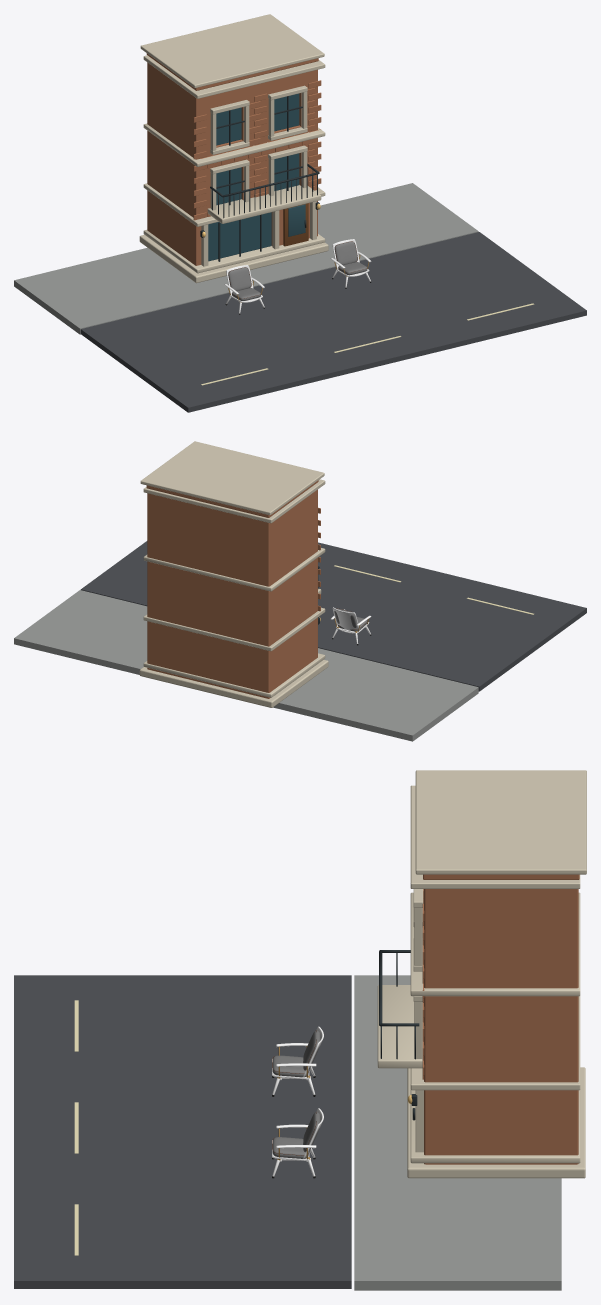
The model's file is garage.glb.
The picture shows the model from 3 angles, top to bottom: view 1: azimuth 30°, elevation 25°; view 2: azimuth 150°, elevation 25°; view 3: azimuth 270°, elevation 25°; orthographic projection. The views are drawn at different scales.
Visible parts, largest first — view 1: street, sidewalk, facade, roof_cap, shop_window, balcony_floor, foundation, cornice, base_course, middle_course, upper_window_left, upper_window_right (+6 smaller); view 2: facade, street, sidewalk, roof_cap, foundation, cornice, base_course, middle_course, shop_header, parapet; view 3: street, facade, sidewalk, roof_cap, foundation, balcony_floor, middle_course, cornice, base_course, shop_header, parapet.
Boxes of the visible parts, x1,y1,x2,y2 form: street: [80, 232, 586, 412]; sidewalk: [14, 183, 478, 334]; facade: [147, 62, 317, 265]; roof_cap: [140, 14, 324, 88]; shop_window: [208, 212, 271, 261]; balcony_floor: [207, 185, 321, 223]; foundation: [139, 234, 328, 283]; cornice: [143, 55, 325, 98]; base_course: [143, 230, 325, 273]; middle_course: [143, 123, 325, 166]; upper_window_left: [216, 107, 241, 145]; upper_window_right: [274, 93, 299, 131]; facade: [147, 489, 317, 698]; street: [80, 541, 586, 691]; sidewalk: [14, 590, 478, 741]; roof_cap: [140, 441, 324, 515]; foundation: [139, 659, 328, 707]; cornice: [143, 479, 325, 523]; base_course: [143, 653, 325, 697]; middle_course: [143, 548, 325, 591]; shop_header: [143, 607, 325, 651]; parapet: [146, 480, 318, 517]; street: [14, 975, 351, 1288]; facade: [424, 889, 578, 1164]; sidewalk: [354, 975, 561, 1290]; roof_cap: [415, 770, 586, 874]; foundation: [407, 1067, 585, 1178]; balcony_floor: [377, 985, 422, 1068]; middle_course: [410, 892, 580, 996]; cornice: [410, 785, 580, 888]; base_course: [410, 1090, 580, 1163]; shop_header: [410, 996, 580, 1090]; parapet: [423, 874, 579, 879].
Size of the model in its own units: 15 by 7.27 by 11.87.
